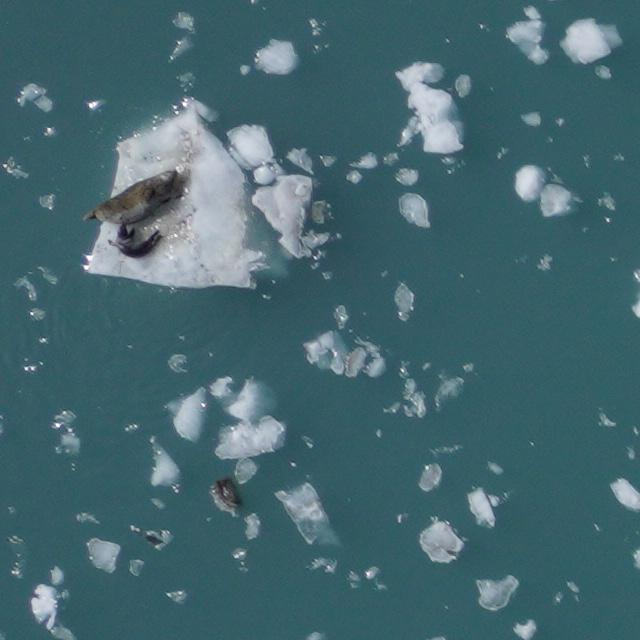seal: (79, 162, 193, 248), (106, 224, 164, 261)
